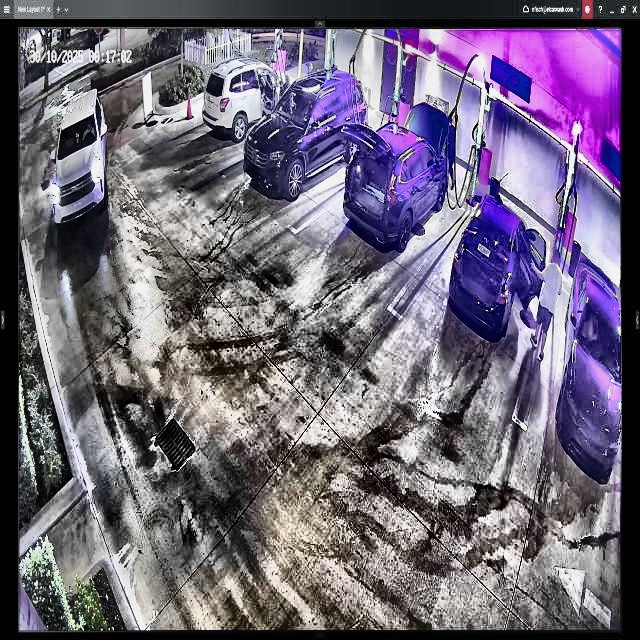Car: (336, 100, 450, 241), (247, 67, 365, 201), (450, 187, 544, 345)
